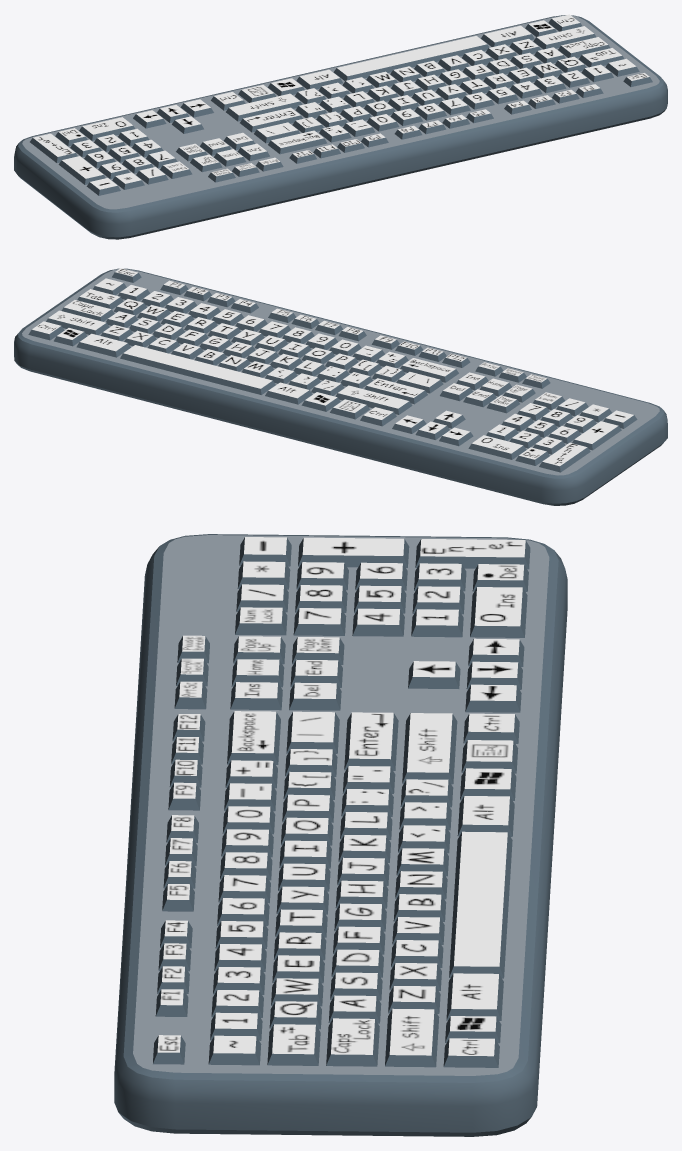
The model's file is Keyboard.fbx.
The picture shows the model from 3 angles, top to bottom: view 1: azimuth 30°, elevation 25°; view 2: azimuth 150°, elevation 25°; view 3: azimuth 270°, elevation 25°; orthographic projection. The views are drawn at different scales.
Visible parts, largest first — view 1: Keyboard; view 2: Keyboard; view 3: Keyboard.
Boxes of the visible parts, left/top/right/bottom form: Keyboard: left=14, top=14, right=667, bottom=239; Keyboard: left=14, top=268, right=667, bottom=505; Keyboard: left=114, top=534, right=567, bottom=1136.
Size of the model in its own units: 0.5181 by 0.0282 by 0.1783.
